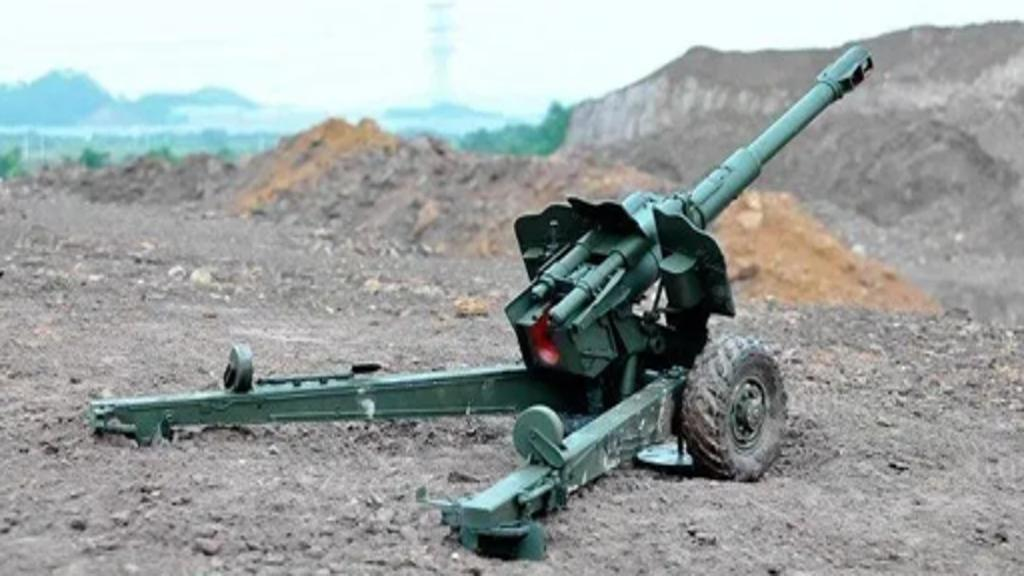ART: (90, 40, 876, 554)
